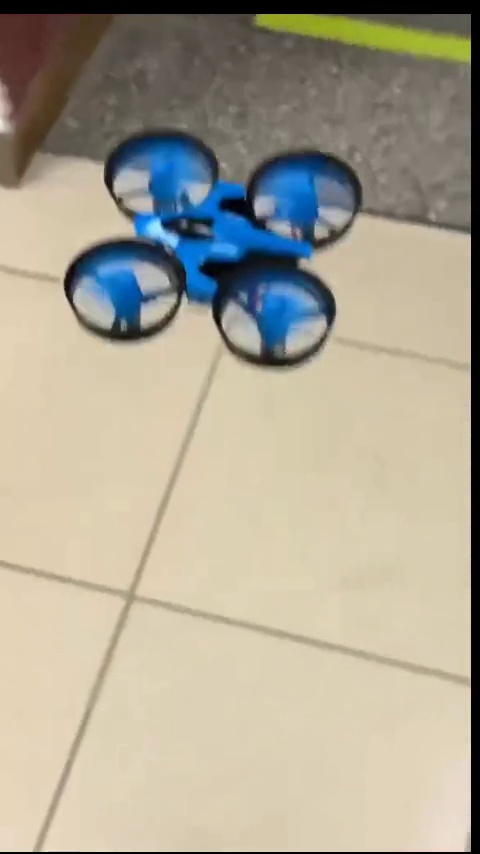drone: (71, 133, 366, 354)
